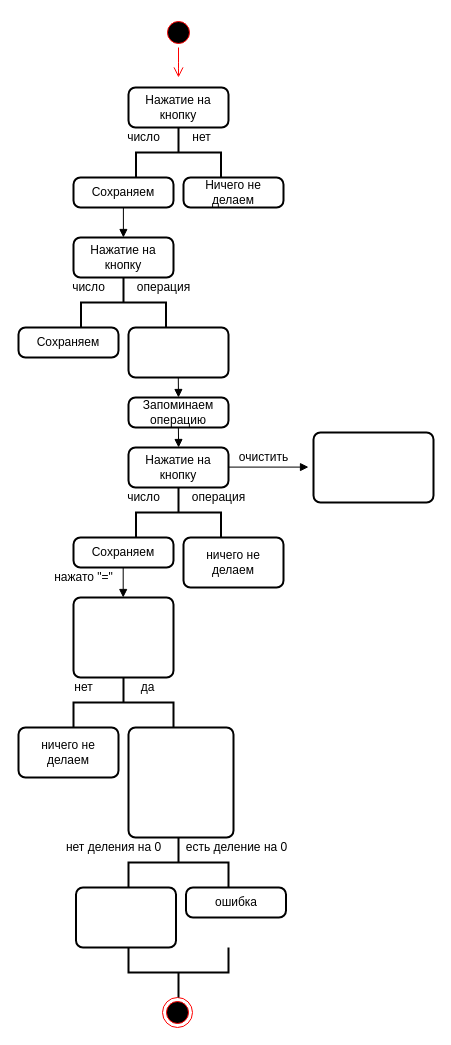
This 451x1045 diagram has some shape labels left out. The centre of each missing label's shape, as x and y in pixels:
берем сохраненные данные и производим с ними математические операции: the point at 180,782
Выводим информацию о операции: the point at 178,352
показываем результат операций: the point at 125,917
проверяем достаточно ли информации для проведения операций: the point at 123,637
удаляем все введенную ранее информацию: the point at 373,467
